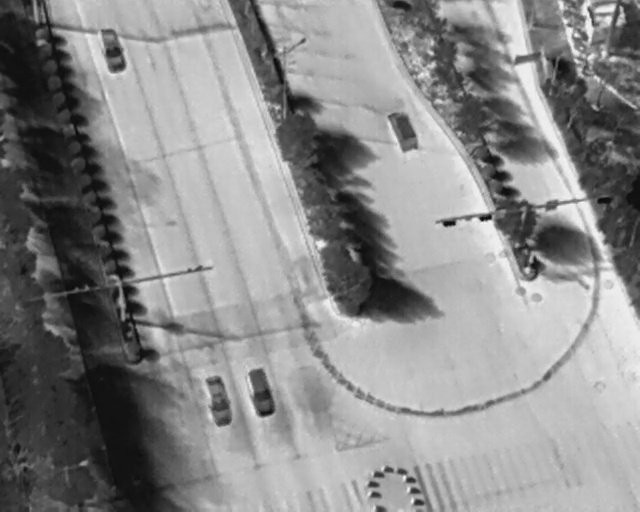Car: (196, 372, 235, 429), (381, 105, 422, 155), (243, 364, 279, 419), (94, 25, 129, 77)
